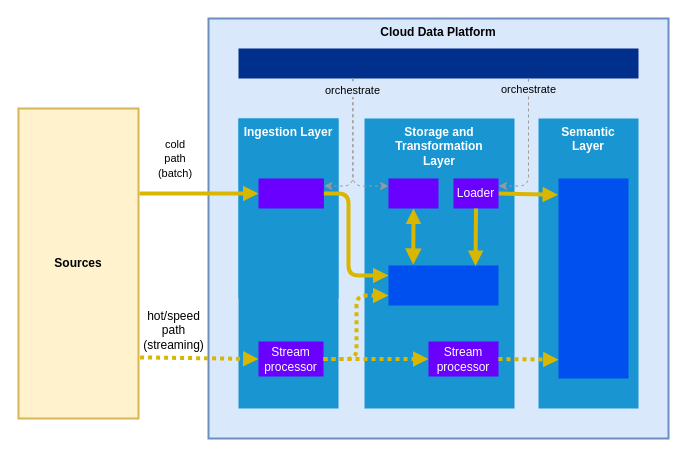
Image size: 686x456. Some labels were removed from this diagram. The shapes that lost their labels are listed below. From the top down, each one's centre as x and y in pixels, then its label:
(x=438, y=63): Orchestration
(x=290, y=193): Extractor
(x=413, y=193): Trans fomer
(x=443, y=285): Data Lake
(x=593, y=278): Destination (DWH)
